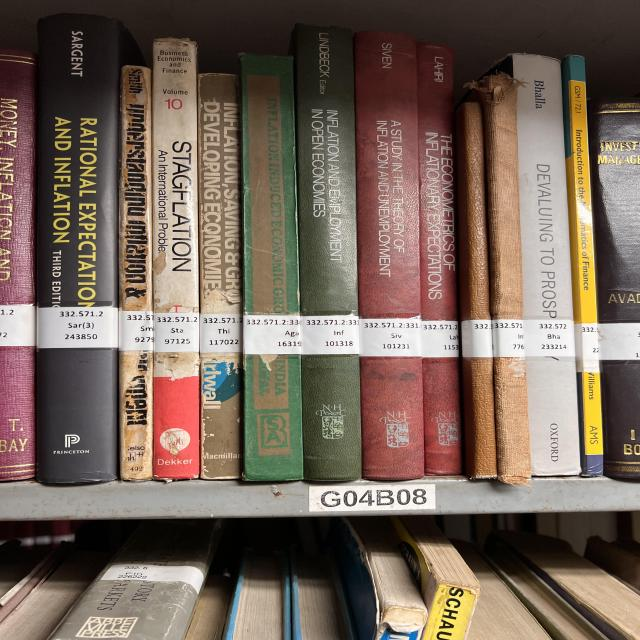Book: (37, 14, 143, 484), (493, 54, 580, 475), (292, 24, 362, 480), (355, 31, 423, 480), (242, 54, 303, 481), (472, 74, 532, 485), (152, 39, 200, 480), (588, 99, 640, 479), (417, 44, 462, 475), (198, 74, 242, 479), (562, 55, 603, 476), (0, 50, 35, 481), (457, 102, 497, 479), (118, 65, 153, 480)
Label: (37, 306, 118, 349), (360, 316, 422, 356), (300, 315, 360, 355), (243, 315, 302, 355), (523, 319, 575, 356), (153, 312, 200, 352), (200, 314, 242, 352), (598, 322, 640, 360), (118, 311, 153, 351), (422, 320, 458, 358), (492, 319, 525, 358), (462, 320, 493, 358), (575, 322, 598, 361), (580, 369, 598, 372)
